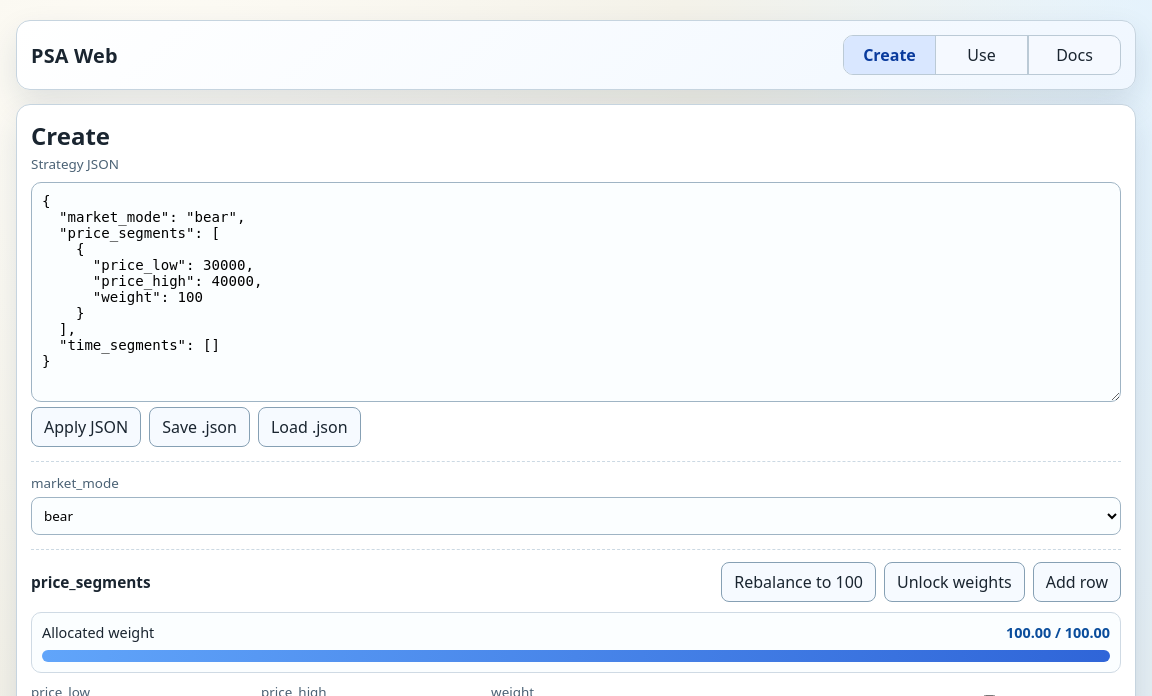
Test: App › clamps now price to a positive value before evaluation
The image size is (1152, 696).
Step 1. Click the tab "Use" → (982, 55), box [936,36,1028,74]
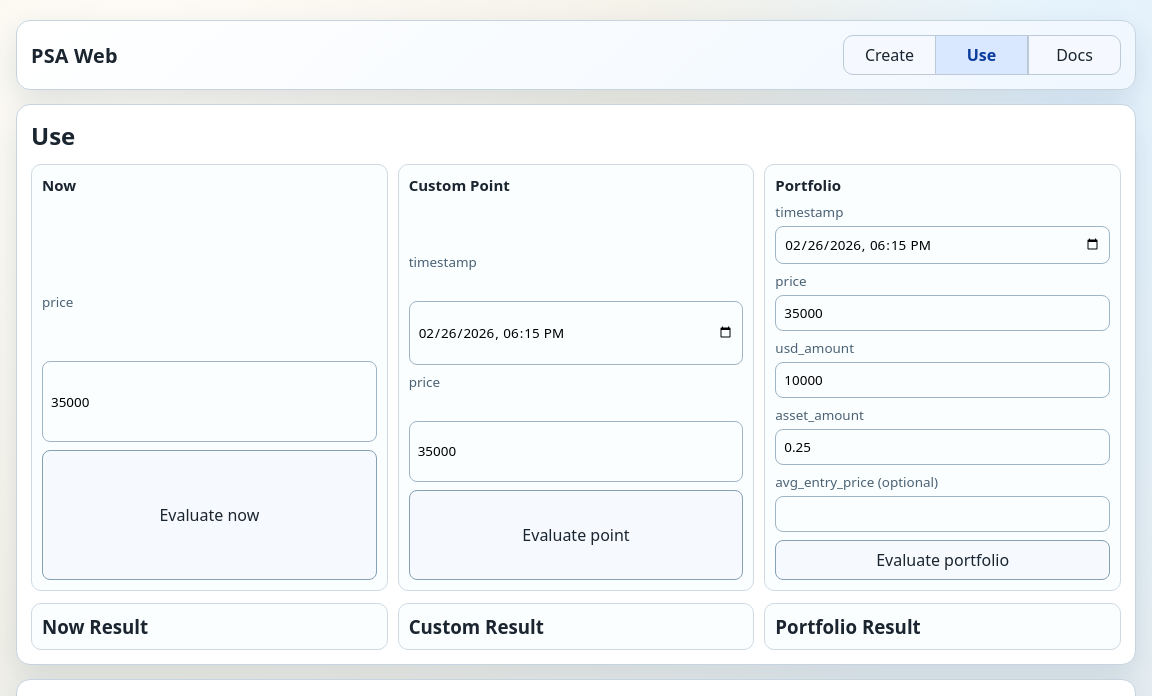
expect the 2nd number field labelled "price" has attribute min="0.01": met
Step 2. Replace the text in the 2nd number field labelled "price" with "0" → (209, 402), box [42,361,377,442]
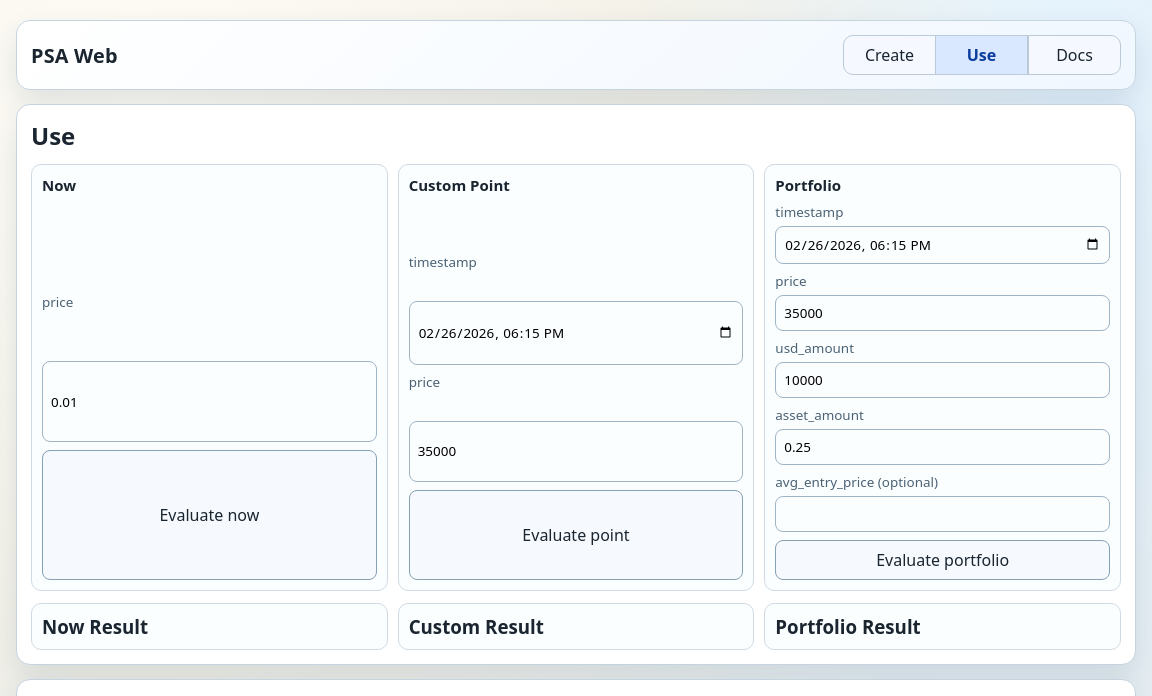
Step 3. Click the button "Evaluate now" → (209, 515), box [42,450,377,580]
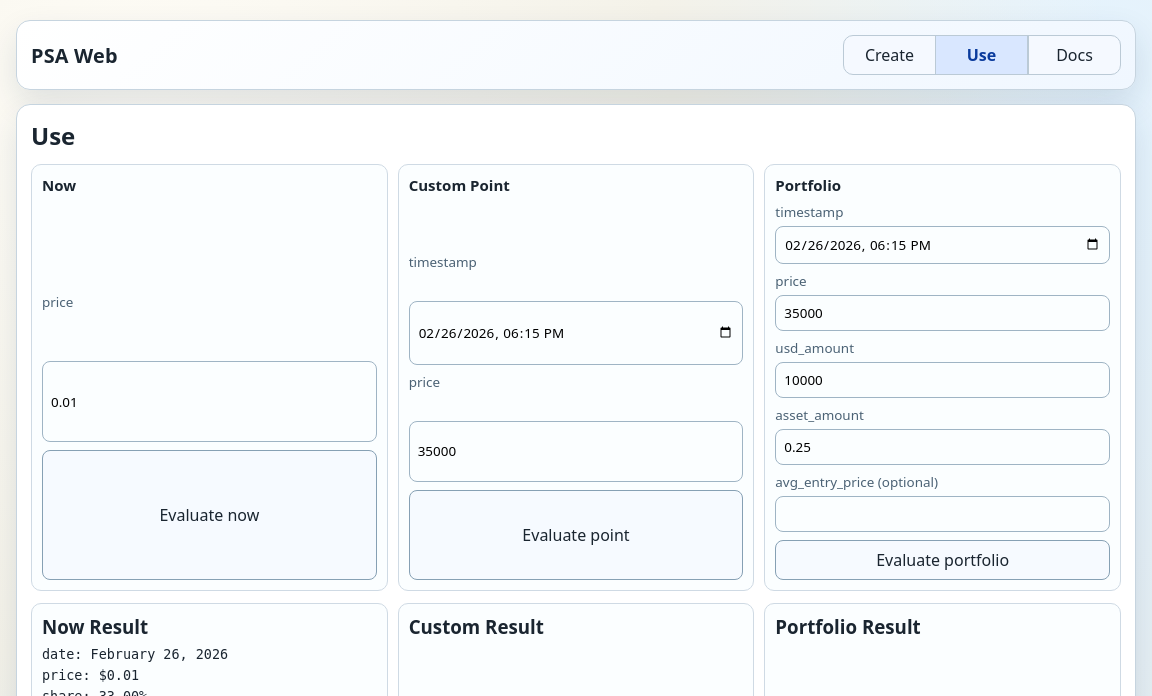
expect the text "price: $0.01" is shown: met, box [42,668,139,683]
